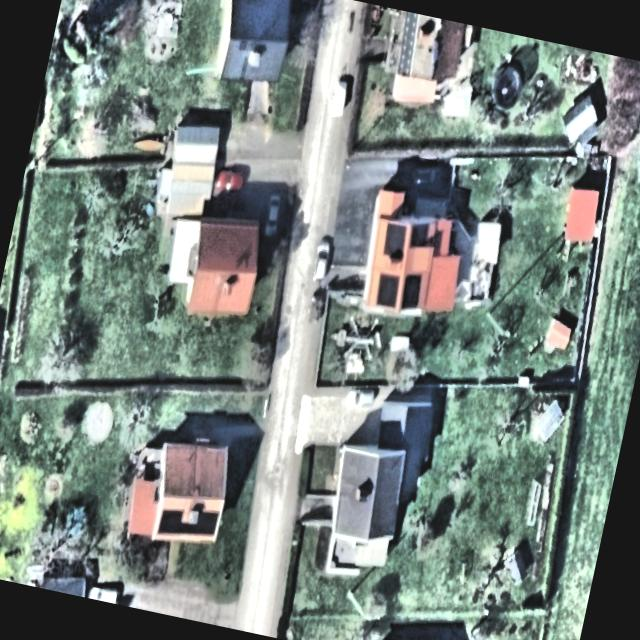roof_pv: (372, 271, 402, 310), (398, 270, 424, 312), (156, 507, 184, 542), (194, 506, 220, 538), (178, 522, 196, 541)
